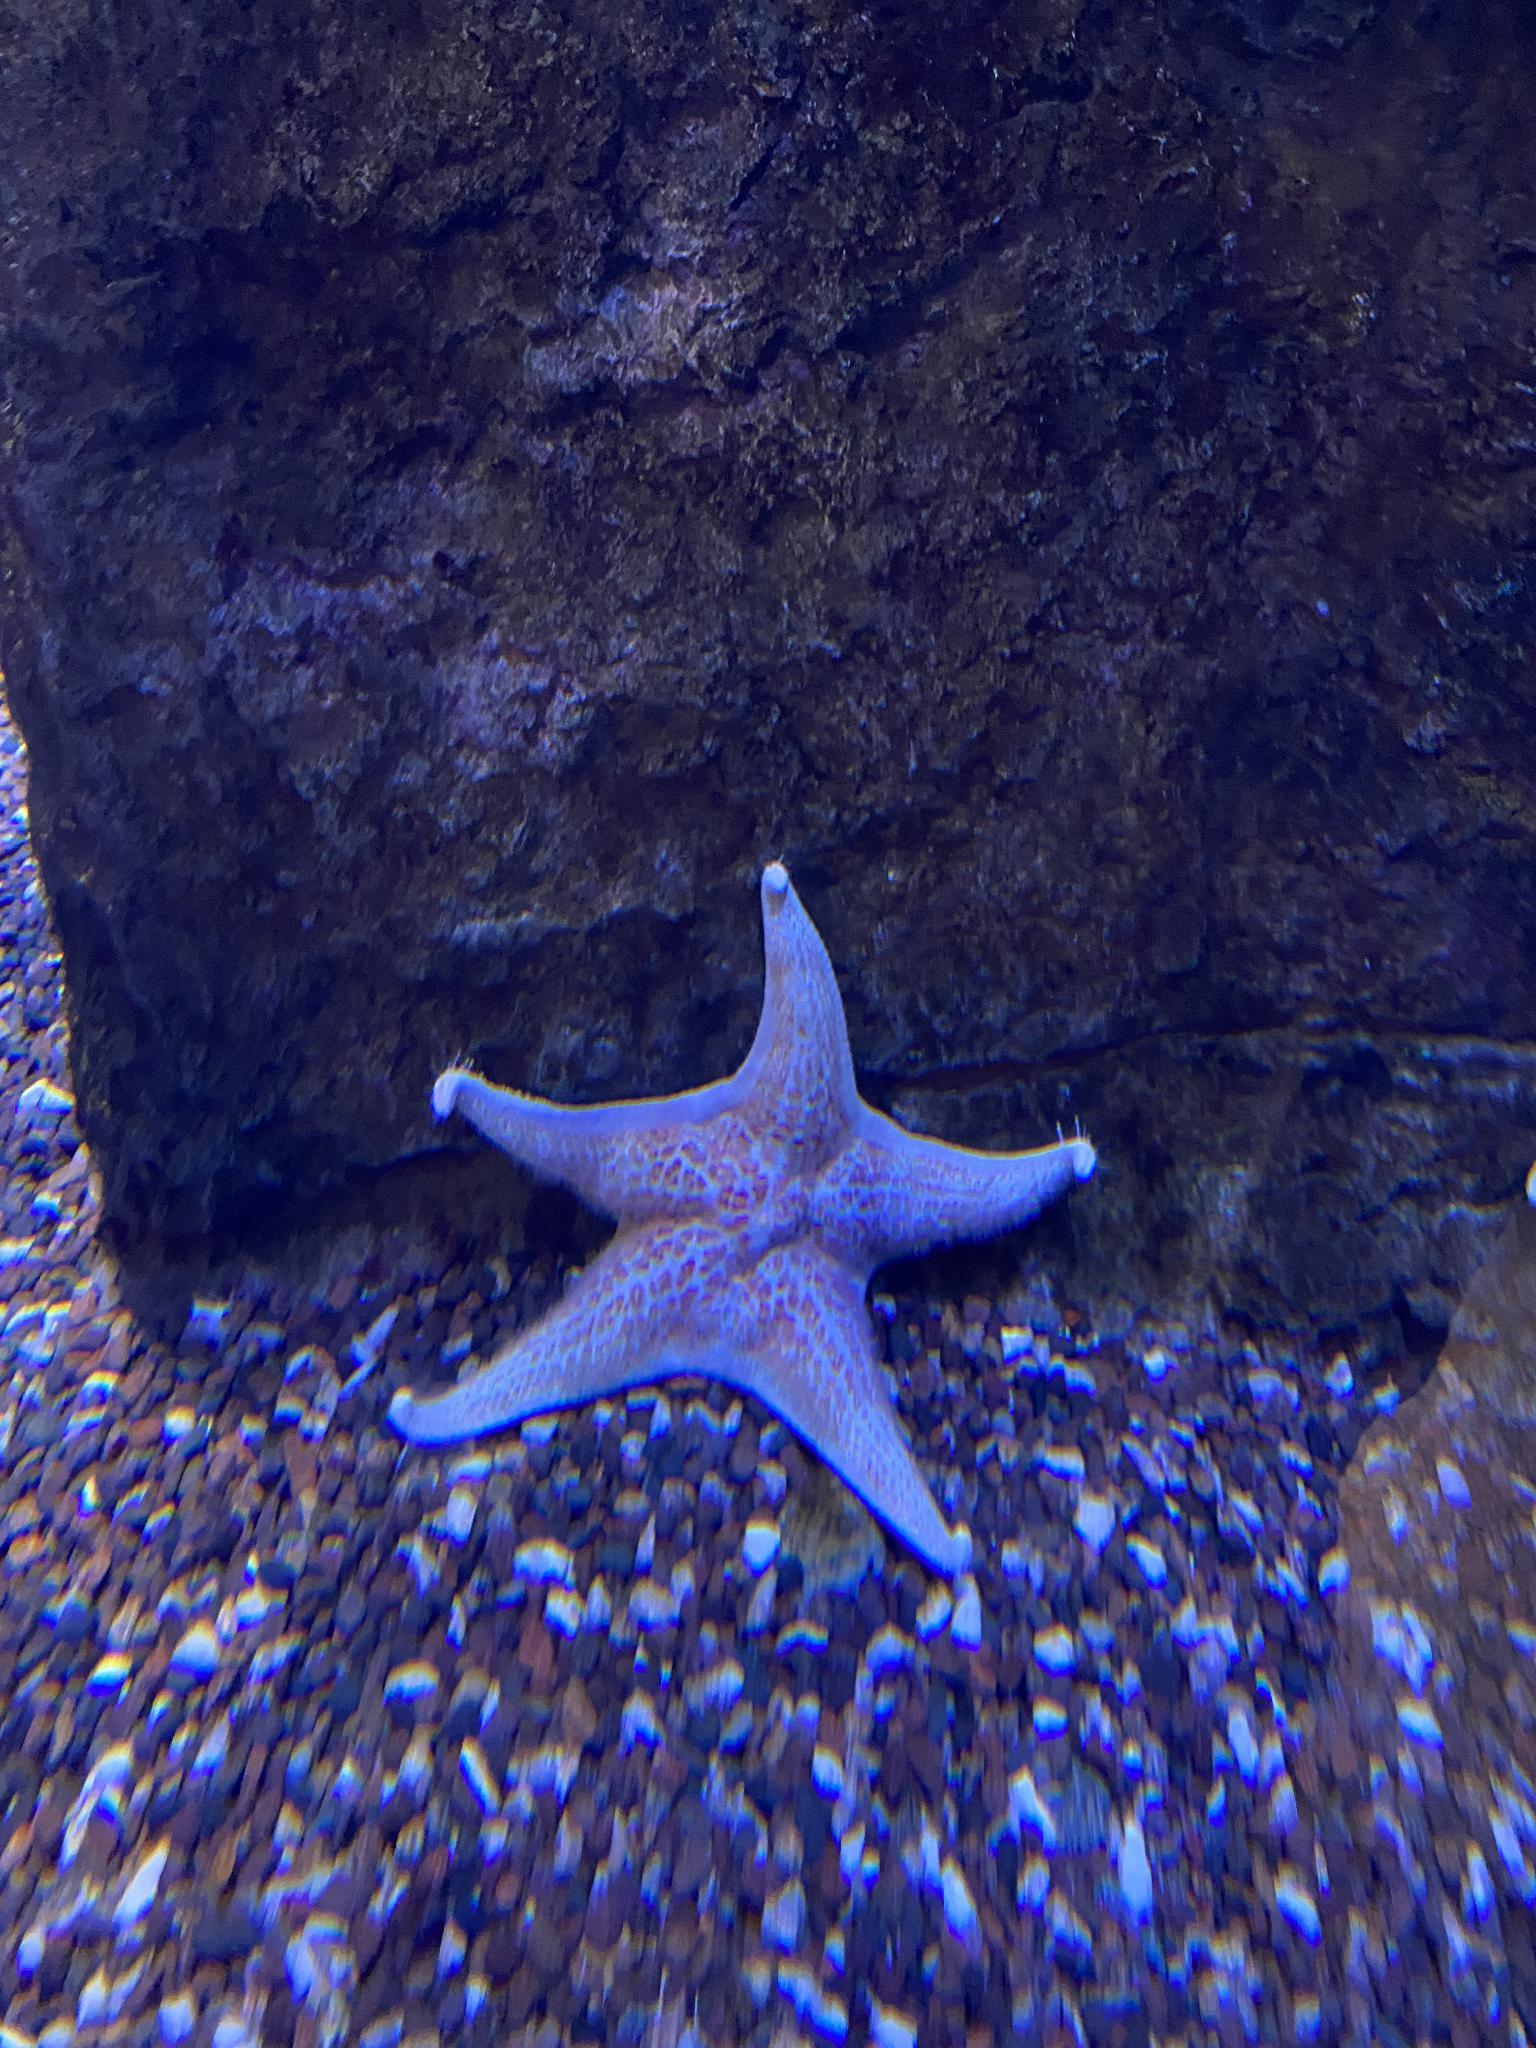starfish: (400, 855, 1128, 1567)
